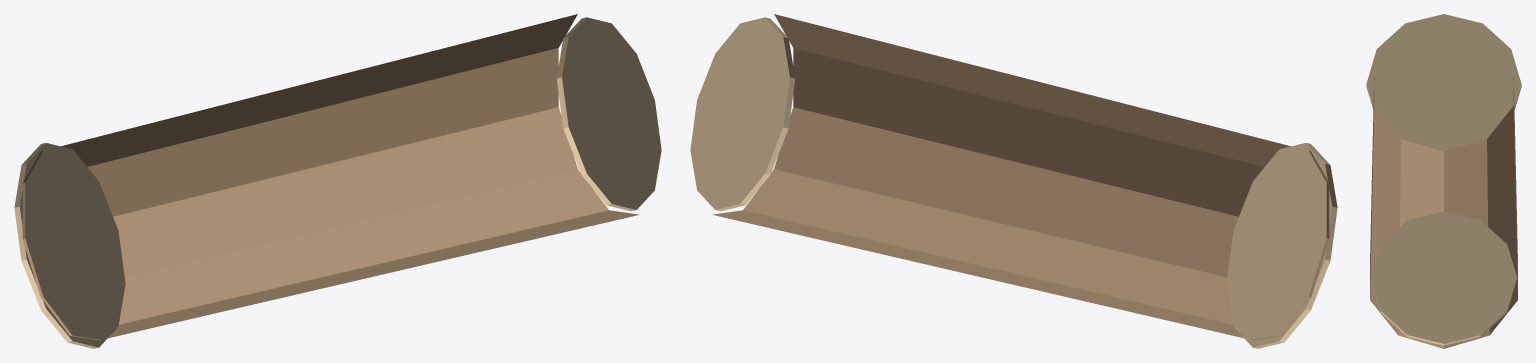
The model's file is log.glb.
The picture shows the model from 3 angles, left to right: view 1: azimuth 30°, elevation 25°; view 2: azimuth 150°, elevation 25°; view 3: azimuth 270°, elevation 25°; orthographic projection. The views are drawn at different scales.
Visible parts, largest first — view 1: log-bark, log-ends; view 2: log-bark, log-ends; view 3: log-ends, log-bark.
Boxes of the visible parts, left/top/right/bottom form: log-bark: left=22, top=14, right=639, bottom=340; log-ends: left=14, top=17, right=661, bottom=348; log-bark: left=712, top=14, right=1329, bottom=340; log-ends: left=690, top=17, right=1337, bottom=348; log-ends: left=1366, top=14, right=1521, bottom=345; log-bark: left=1370, top=77, right=1517, bottom=348.
Bounding box in the file's own units: 2.02 × 0.68 × 0.68.
